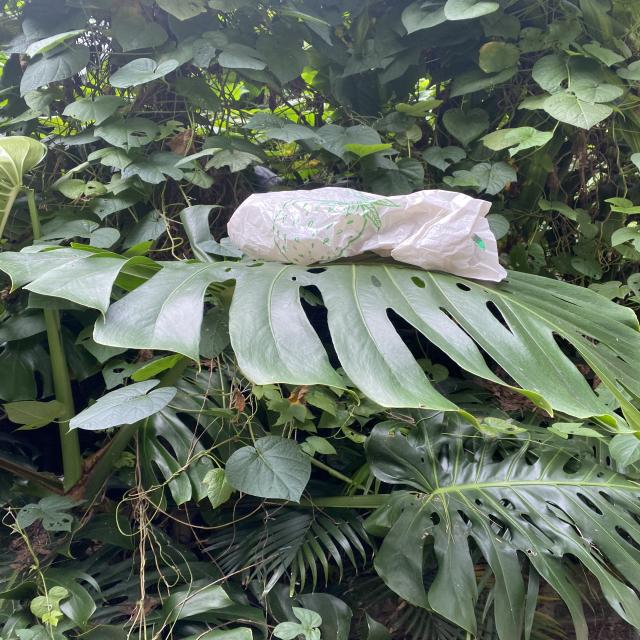bag: (218, 183, 508, 284)
